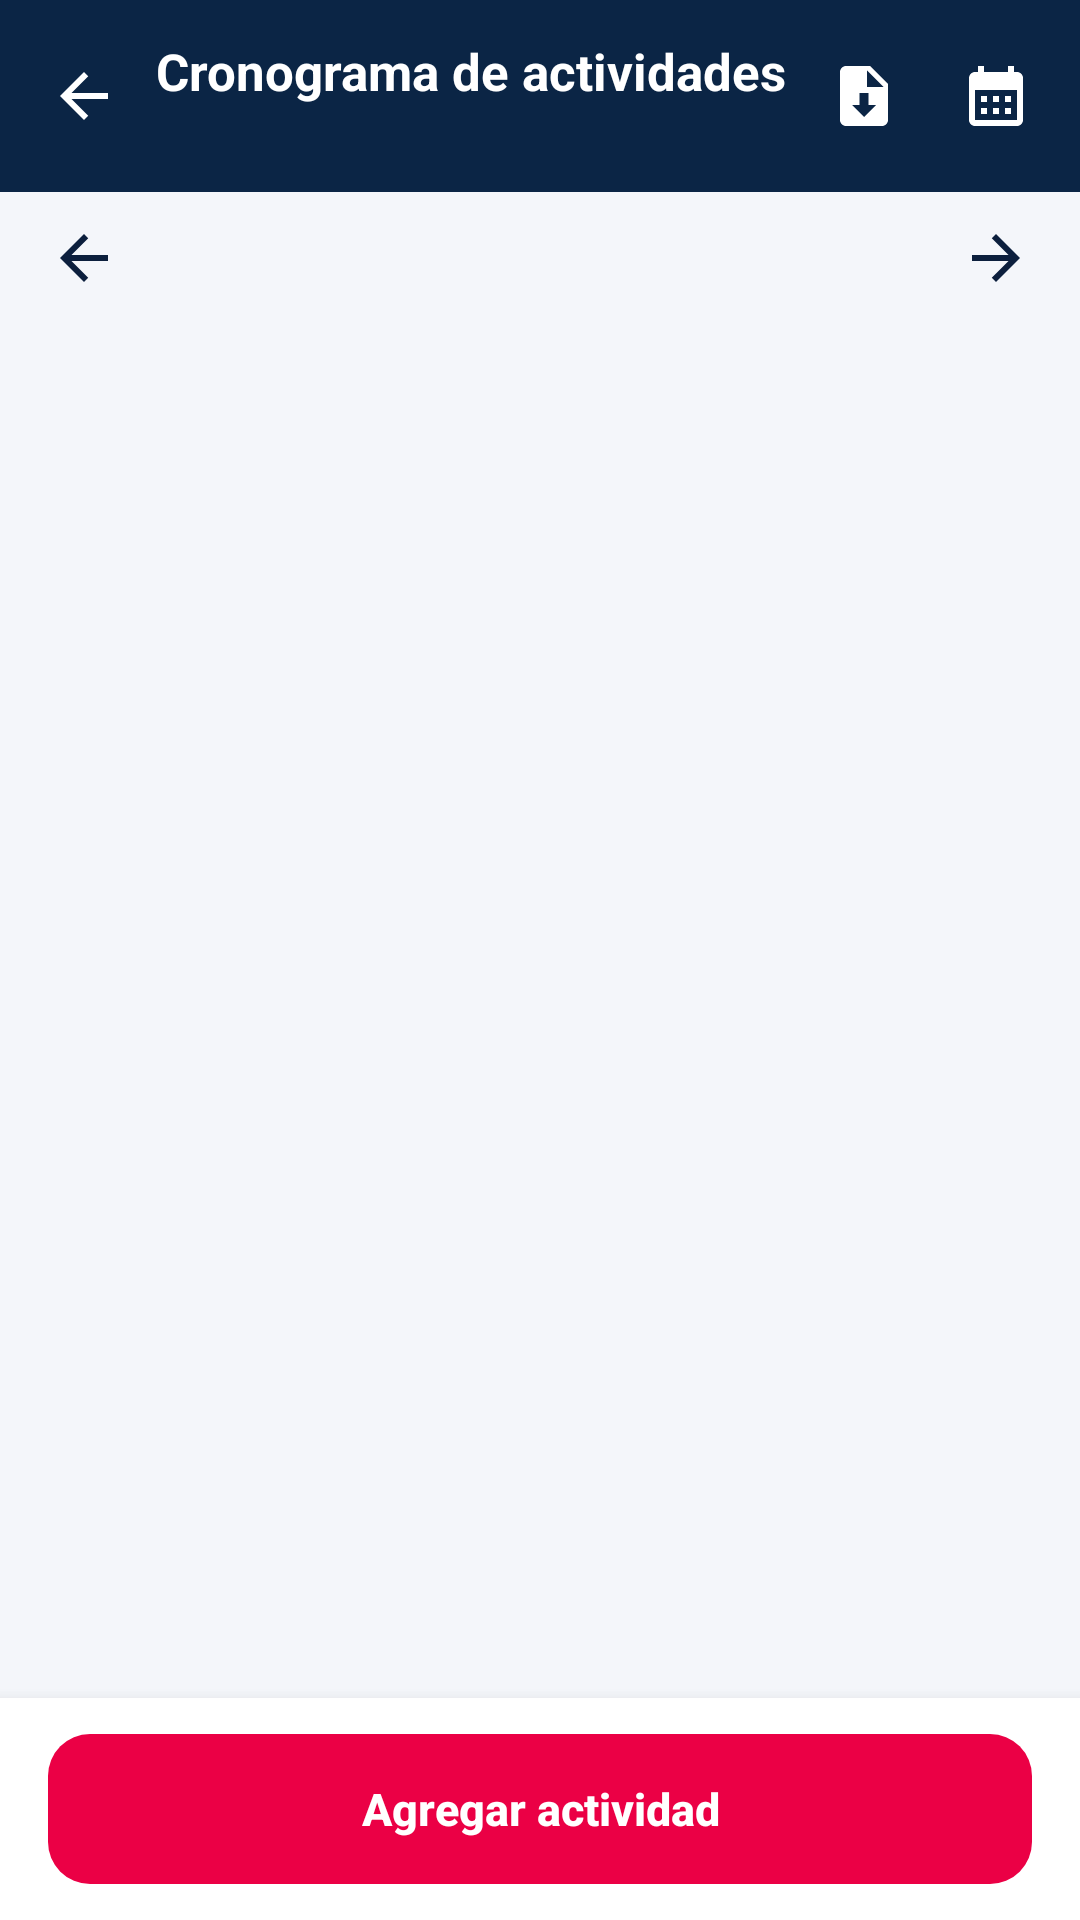

Named icons in this screenshot (1080x1920) and their bounding boxes, BBox(x1, y1, x2, y2):
Anterior: BBox(60, 234, 108, 282)
Mi reporte: BBox(840, 66, 888, 126)
Ver el mes: BBox(969, 66, 1023, 126)
